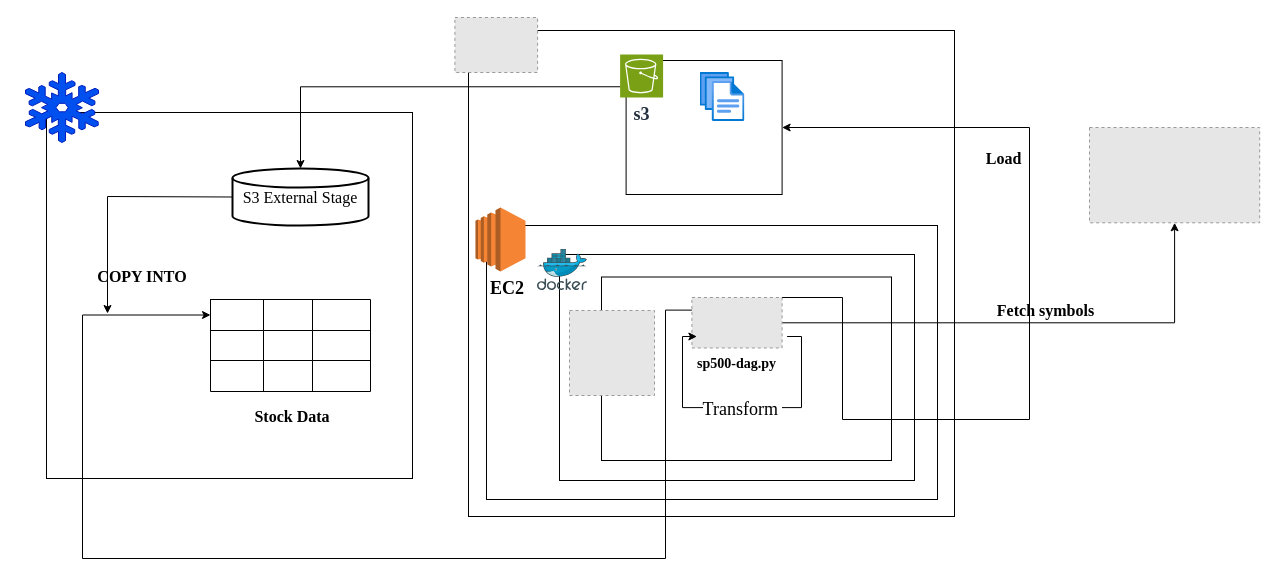
This 1278x584 diagram has some shape labels left out. Grey dashed boxes stand in for pictures. The shapes that lost their labels are listed below. From the top down, each one's centre as x and y in pixels, then its label:
At point 61,107: "Snowflake".
At point 722,96: "CSV Files containing data".
